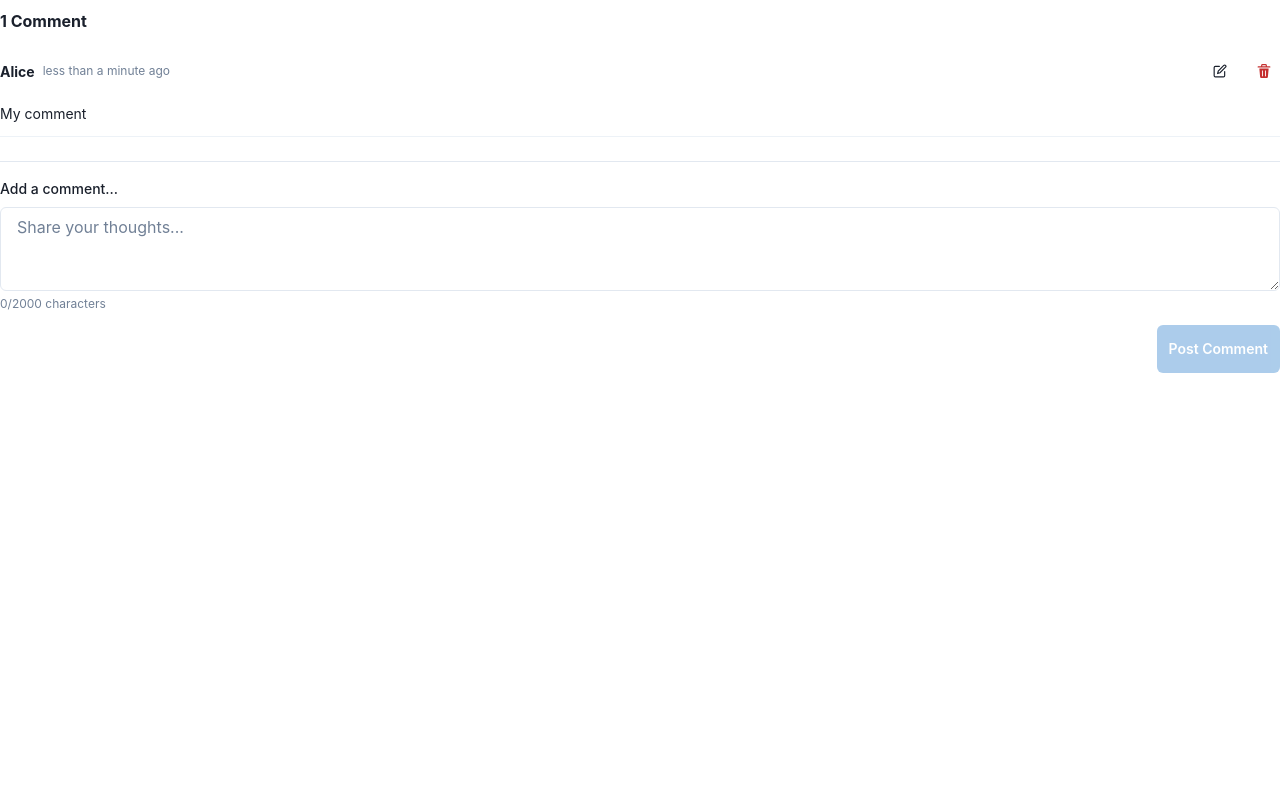
Test: ItemCommentSection › edits a comment via PATCH and reflects it immediately
Expected: the text "My comment" is shown, [0,105,86,122]
Click the button named "edit comment".
click(1220, 71)  # box [1196,47,1244,95]
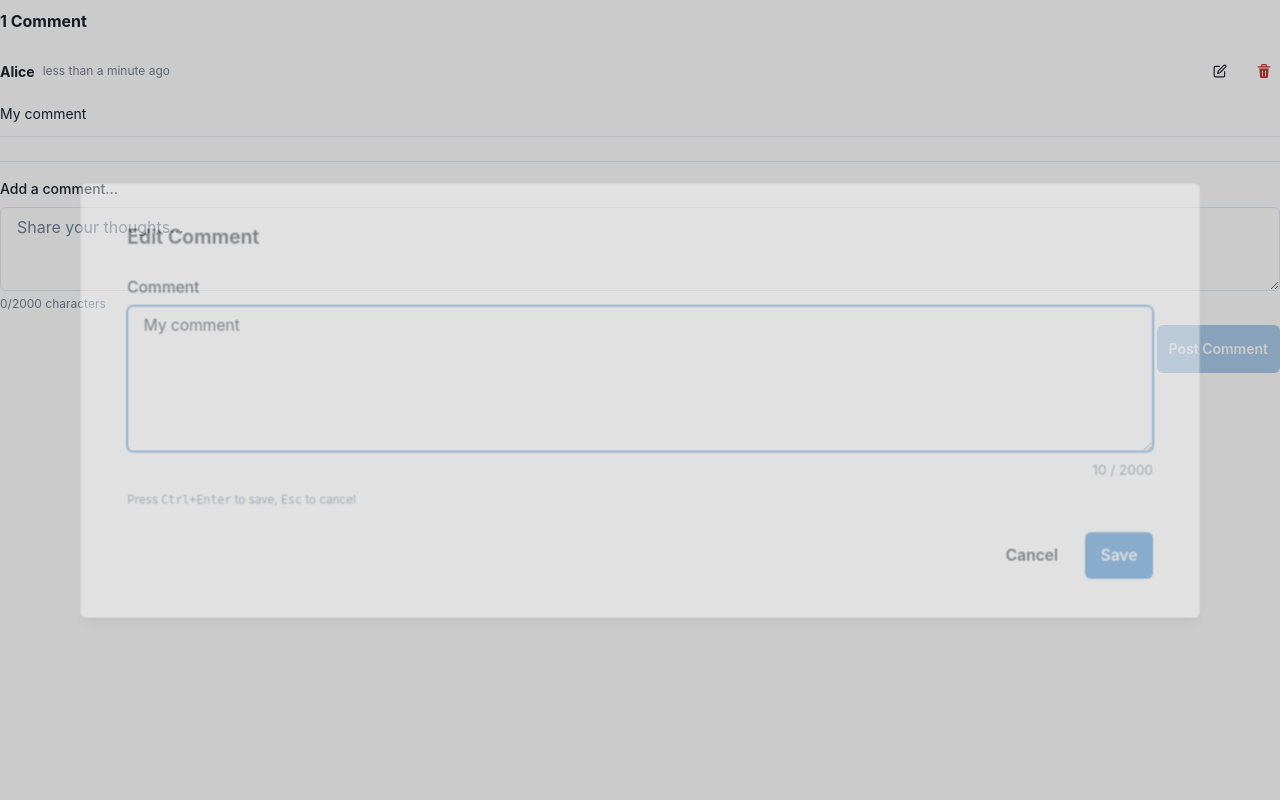
Replace the text in the text box showing "My comment" with "Edited text" at coordinates (640, 378), box [127,305,1153,451]
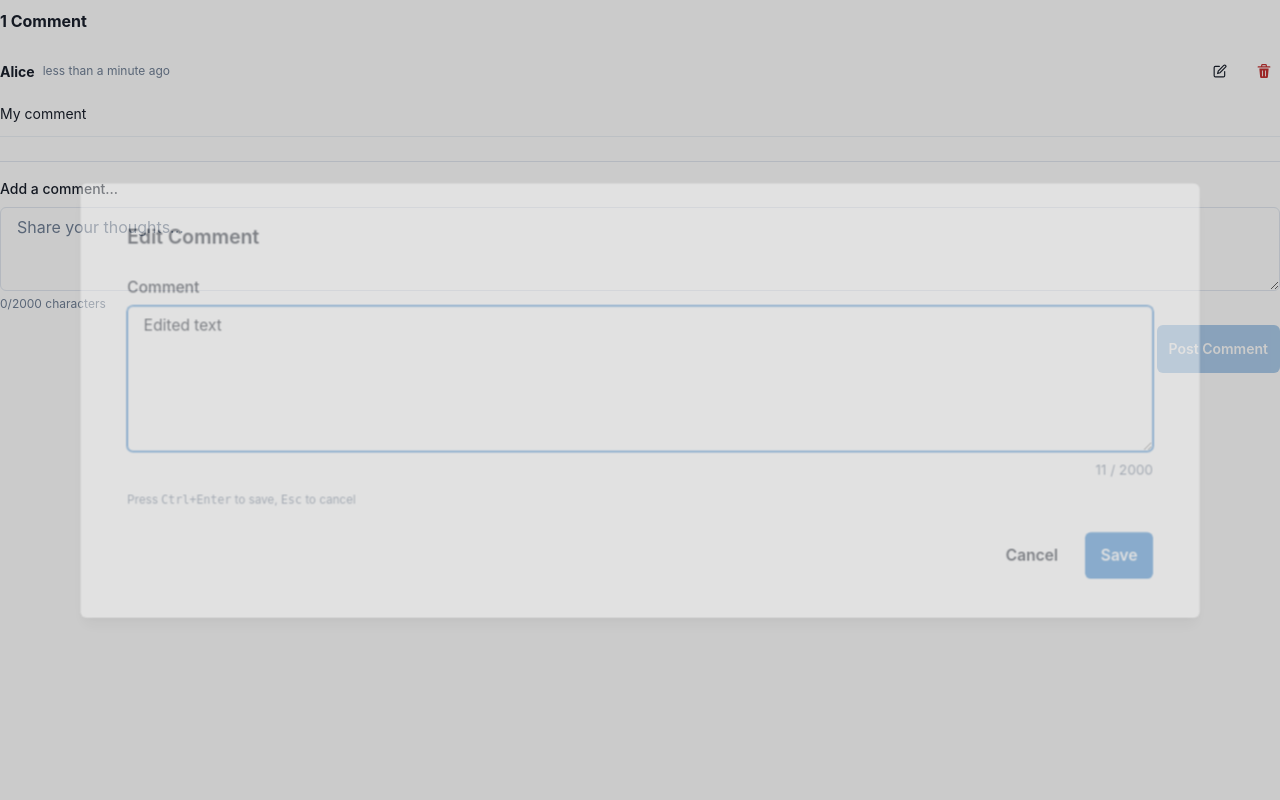
Click the button "Save".
click(1119, 555)  # box [1085,532,1153,578]
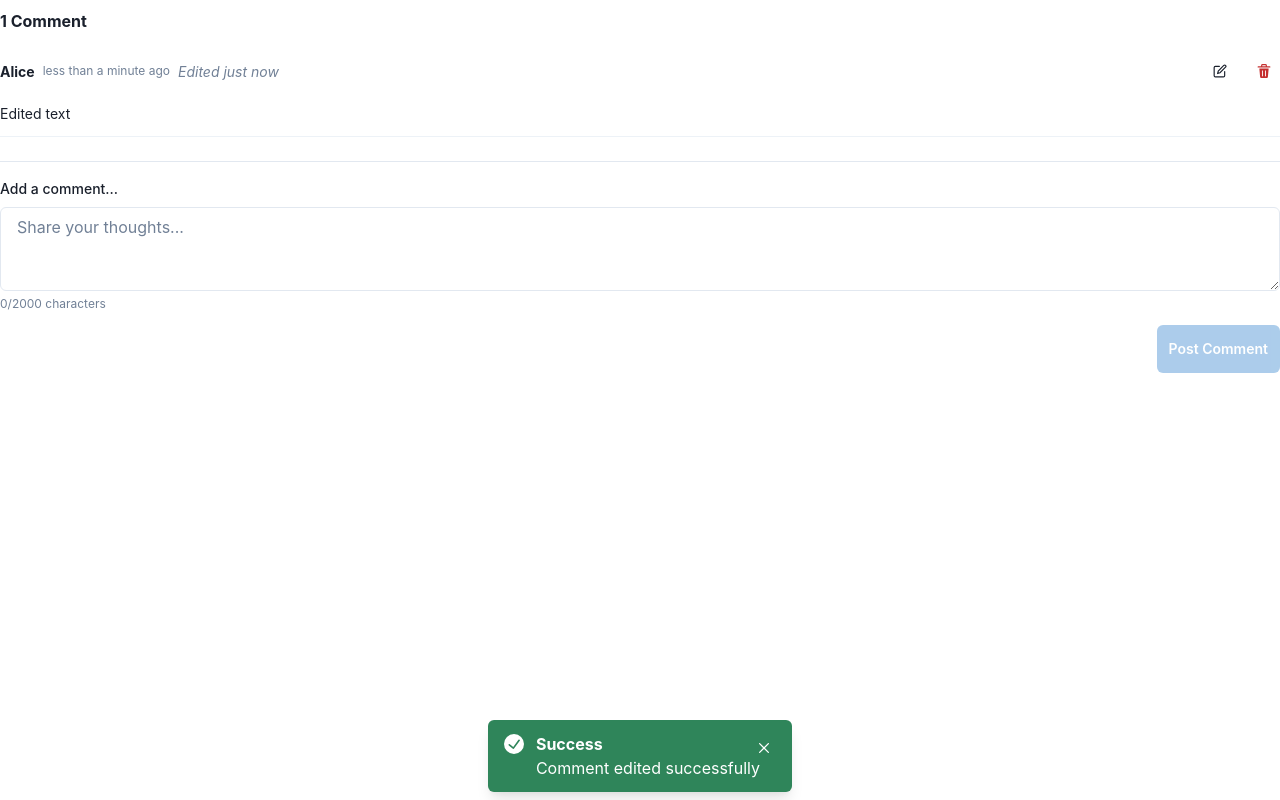
Now the text "Edited text" is shown, box [0,105,70,122]
